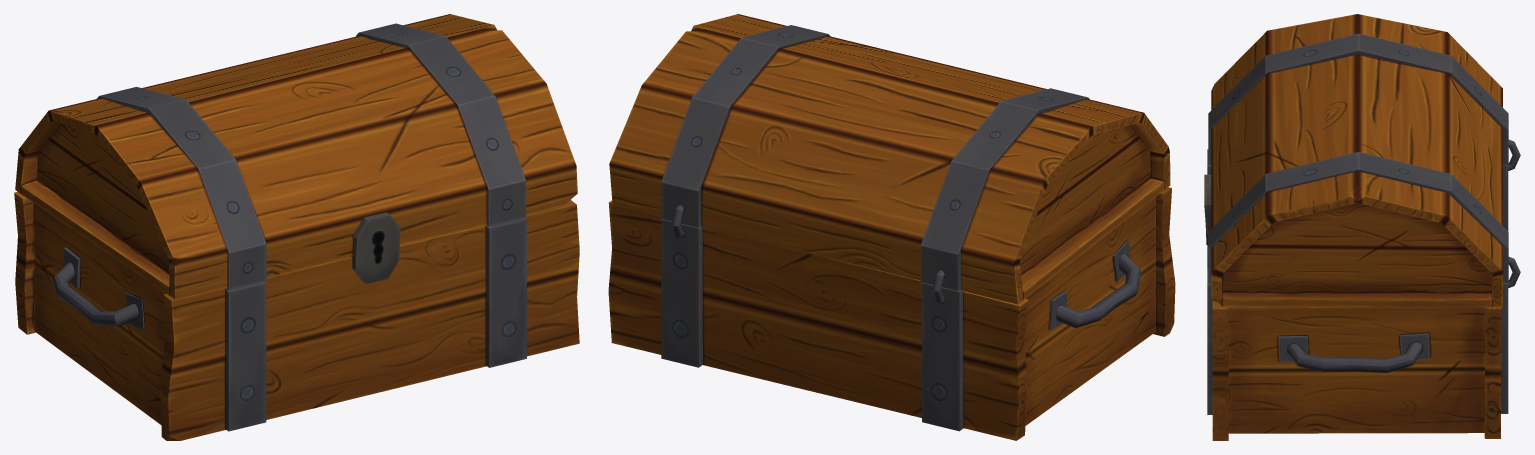
3 renders of one model, left to right at view 1: azimuth 30°, elevation 25°; view 2: azimuth 150°, elevation 25°; view 3: azimuth 270°, elevation 25°, orthographic. The views are drawn at different scales.
Parts seen in each view (by area): view 1: chest cover, chest _chest wood_0, chest _chest Metal_0; view 2: chest cover, chest _chest wood_0, chest _chest Metal_0; view 3: chest cover, chest _chest wood_0, chest _chest Metal_0.
Part boxes in pixels (box(x1,y1,x2,y2)): chest cover: box(15, 14, 577, 299); chest _chest wood_0: box(14, 191, 579, 440); chest _chest Metal_0: box(52, 218, 526, 431); chest cover: box(609, 14, 1170, 304); chest _chest wood_0: box(608, 187, 1175, 440); chest _chest Metal_0: box(661, 219, 1141, 431); chest cover: box(1204, 14, 1520, 307); chest _chest wood_0: box(1212, 300, 1501, 440); chest _chest Metal_0: box(1207, 149, 1508, 414).
Size of the model in its own units: 3.95 by 2.2 by 2.57.
2 materials, 2 textured.
